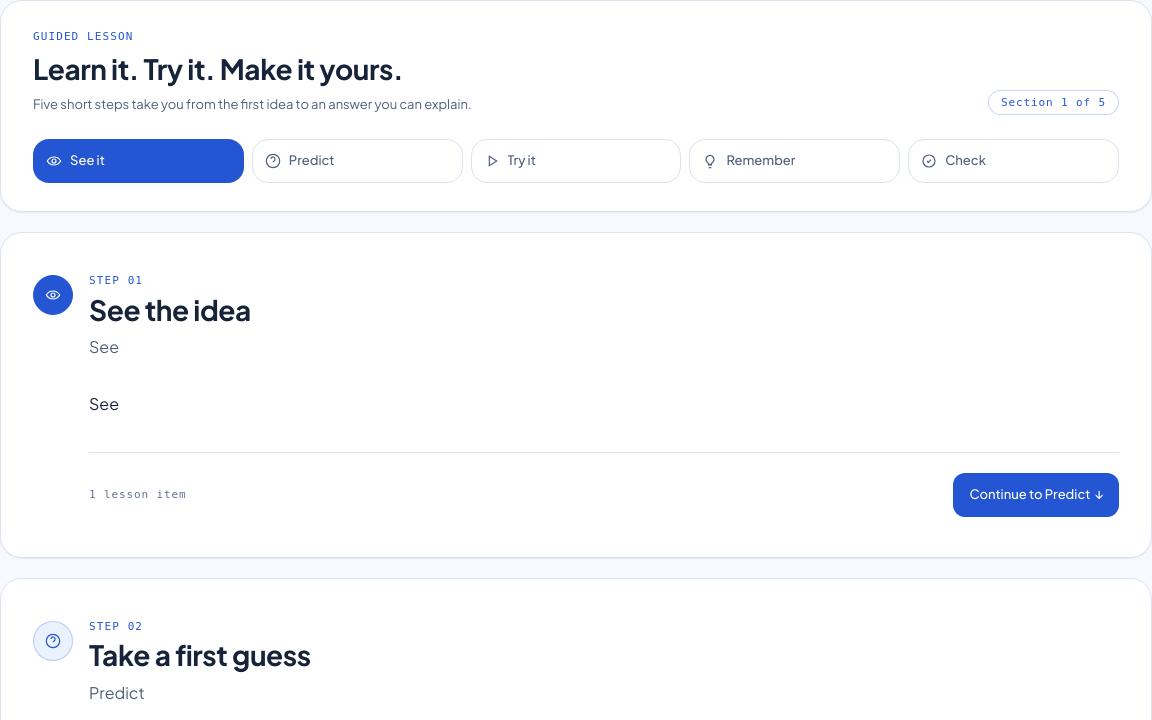
it: MarkCompleteButton › unlocks only after the learner has visited every guided section
Click the button with aria-label "Take a first guess".
click(357, 161)  # box 252,139 -> 463,183
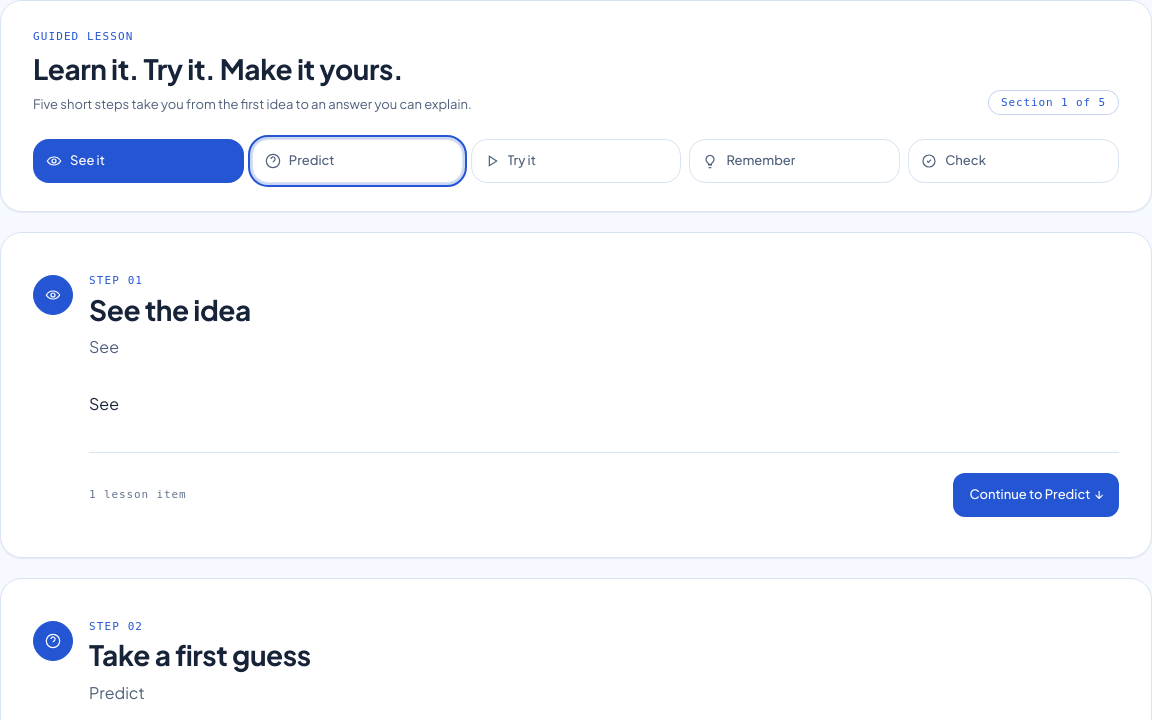
Click the button with aria-label "Try it yourself".
click(576, 161)  # box 471,139 -> 681,183
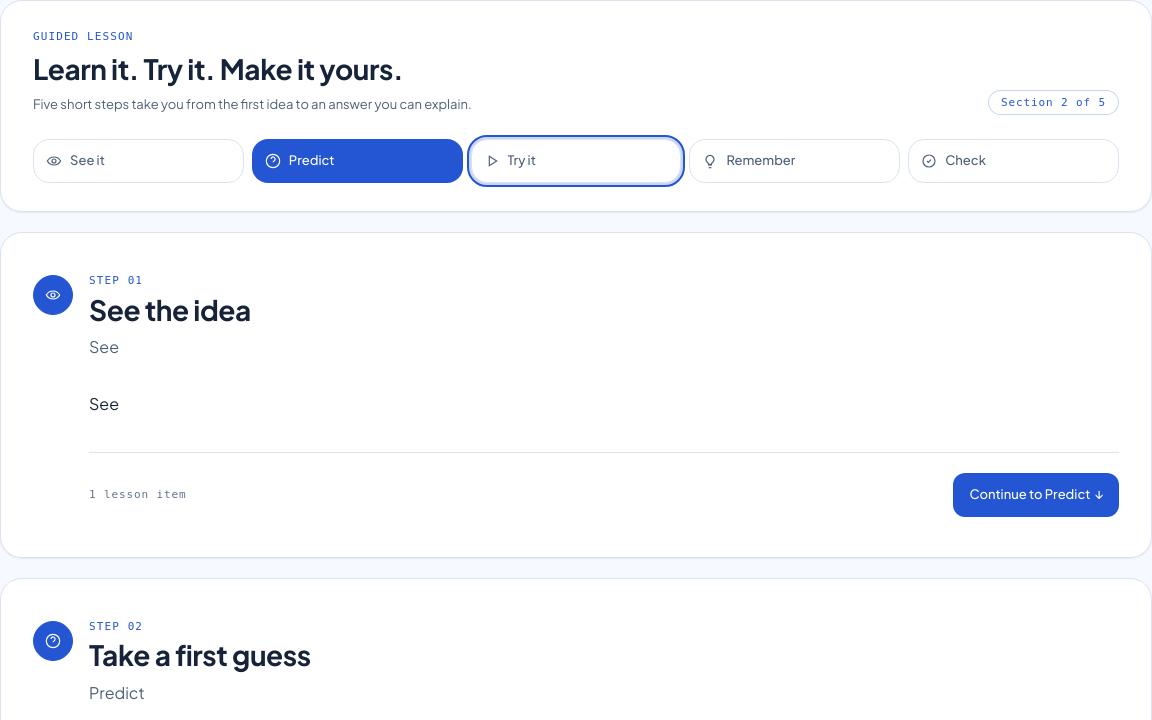
Click the button with aria-label "Explain and remember".
click(795, 161)  # box 689,139 -> 900,183
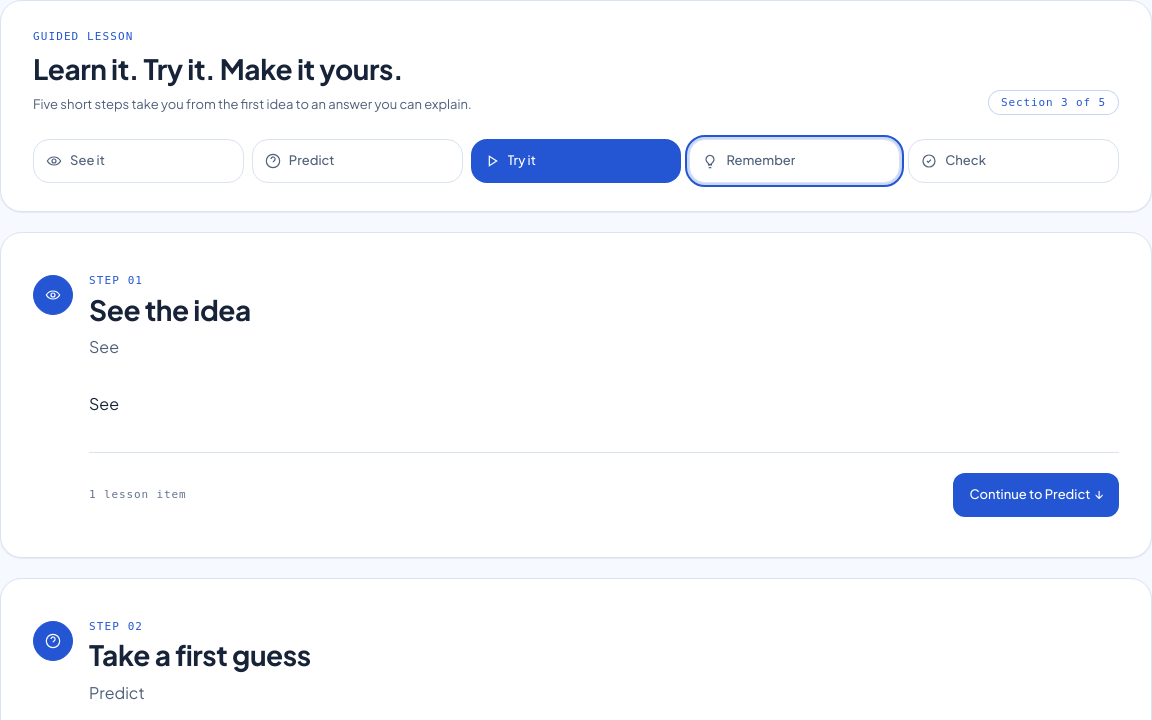
Click the button with aria-label "Final checkpoint".
click(1014, 161)  # box 908,139 -> 1119,183
(page scrolled)
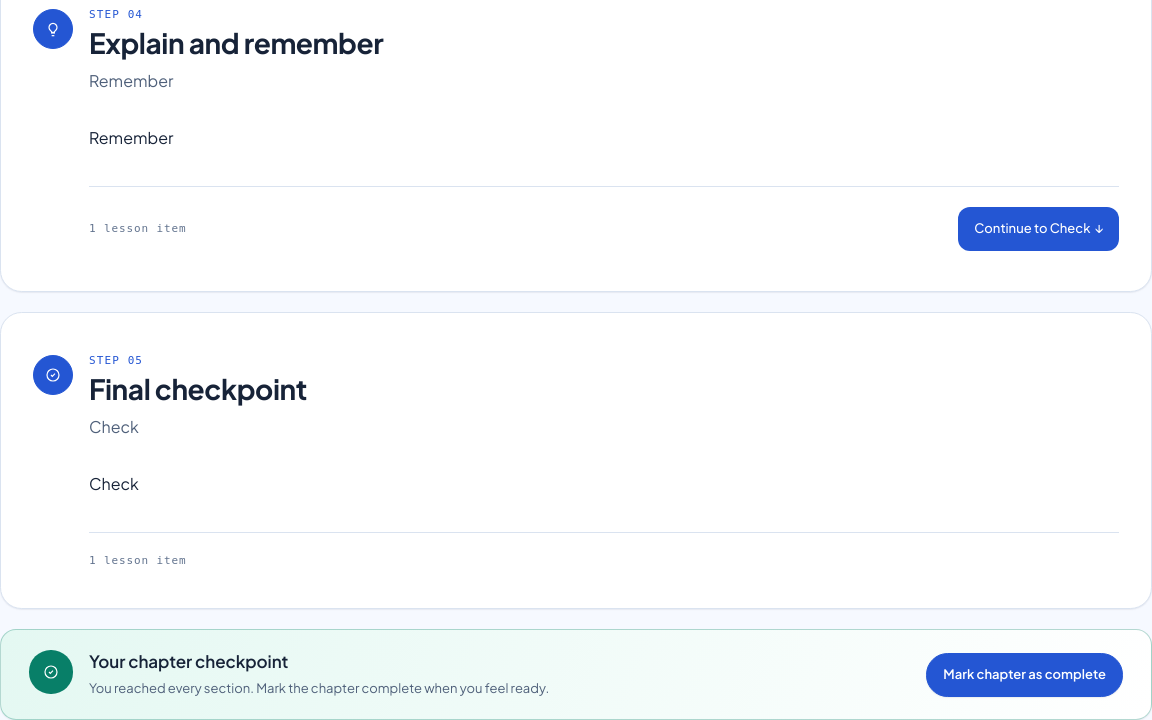
Check: the text "reached every section" is shown, box 89,680 -> 549,696
Check: the button "Mark chapter as complete" is enabled, box 926,653 -> 1123,697
